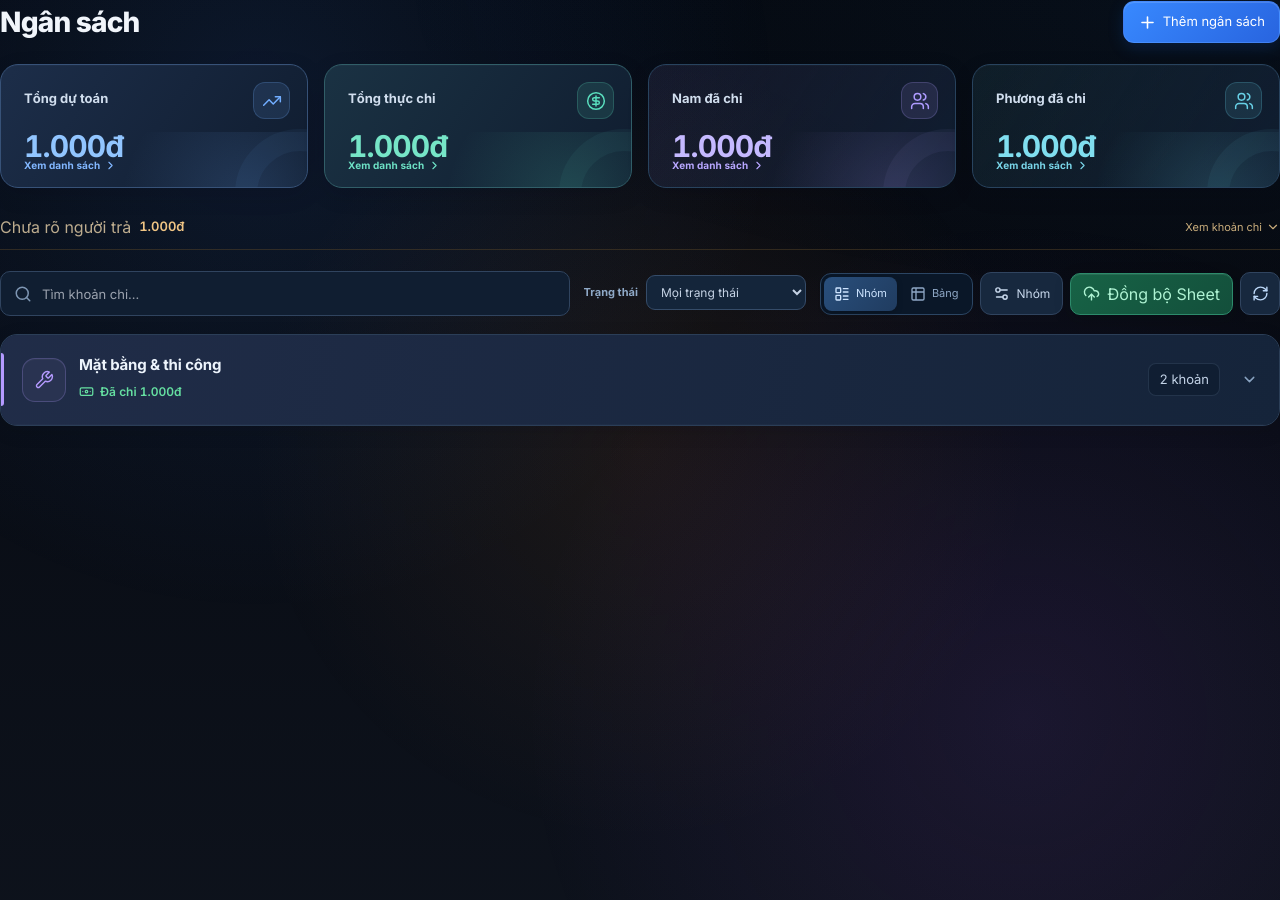
Test: Checklist and Budget interactions › filters payment states and keeps the same filtered rows in grouped table view
The width and height of the screenshot is (1280, 900).
Click the button with aria-label "Dạng bảng" at (934, 294), box [900, 276, 968, 310]
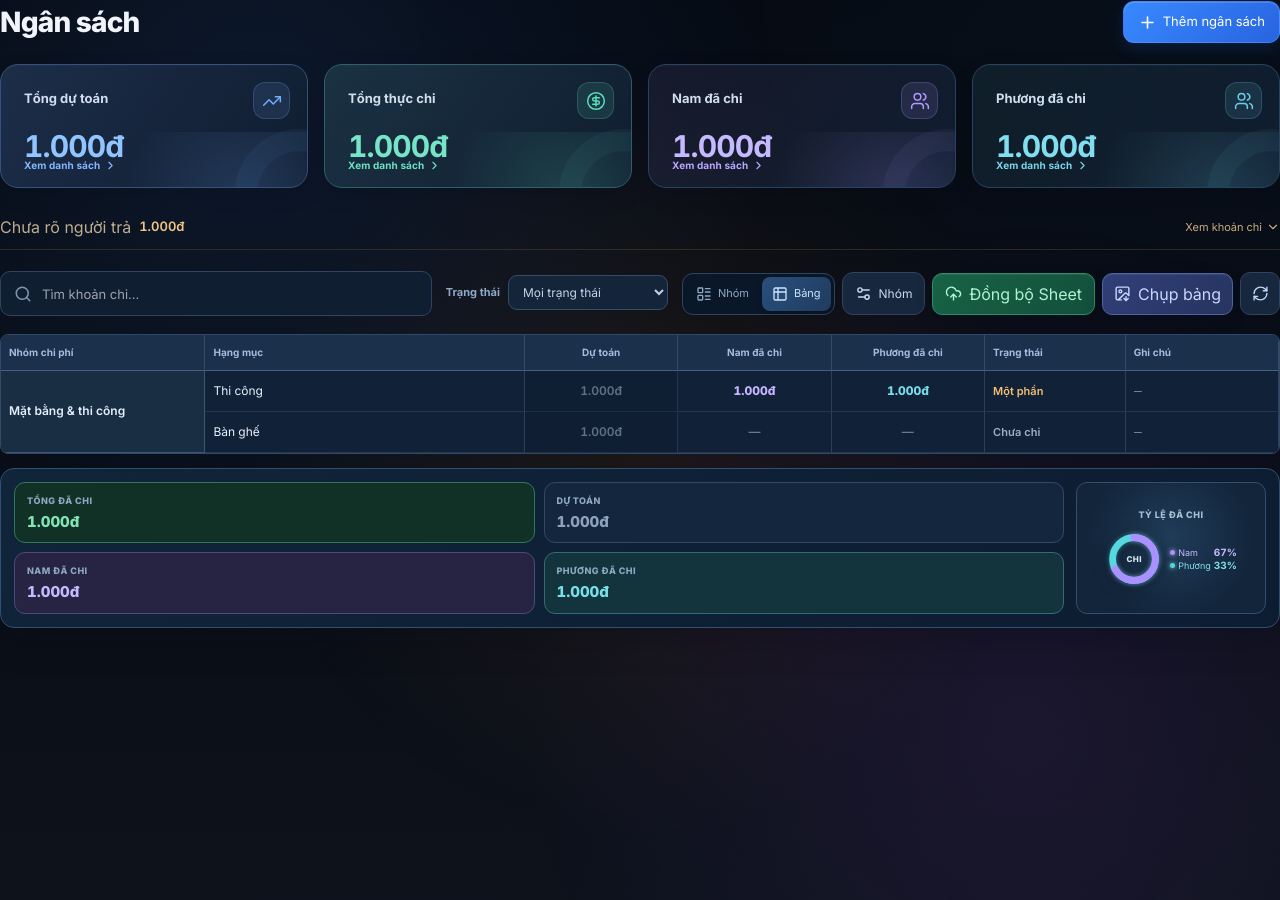
Select "Chưa chi" in the dropdown named "Lọc trạng thái thanh toán" at (588, 292), box [508, 275, 668, 310]
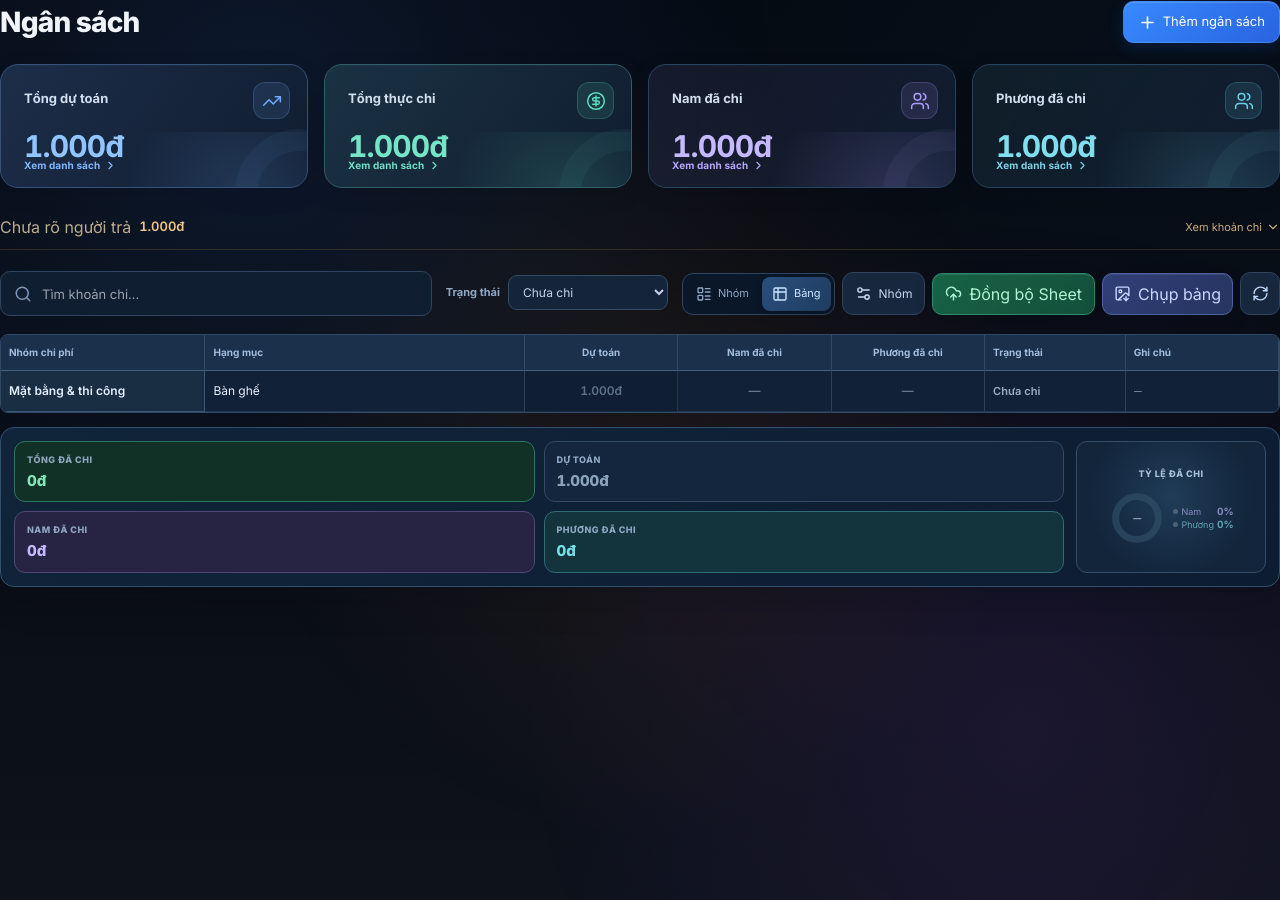
Click the button with aria-label "Mở Bàn ghế" at (237, 390), box [214, 378, 516, 404]
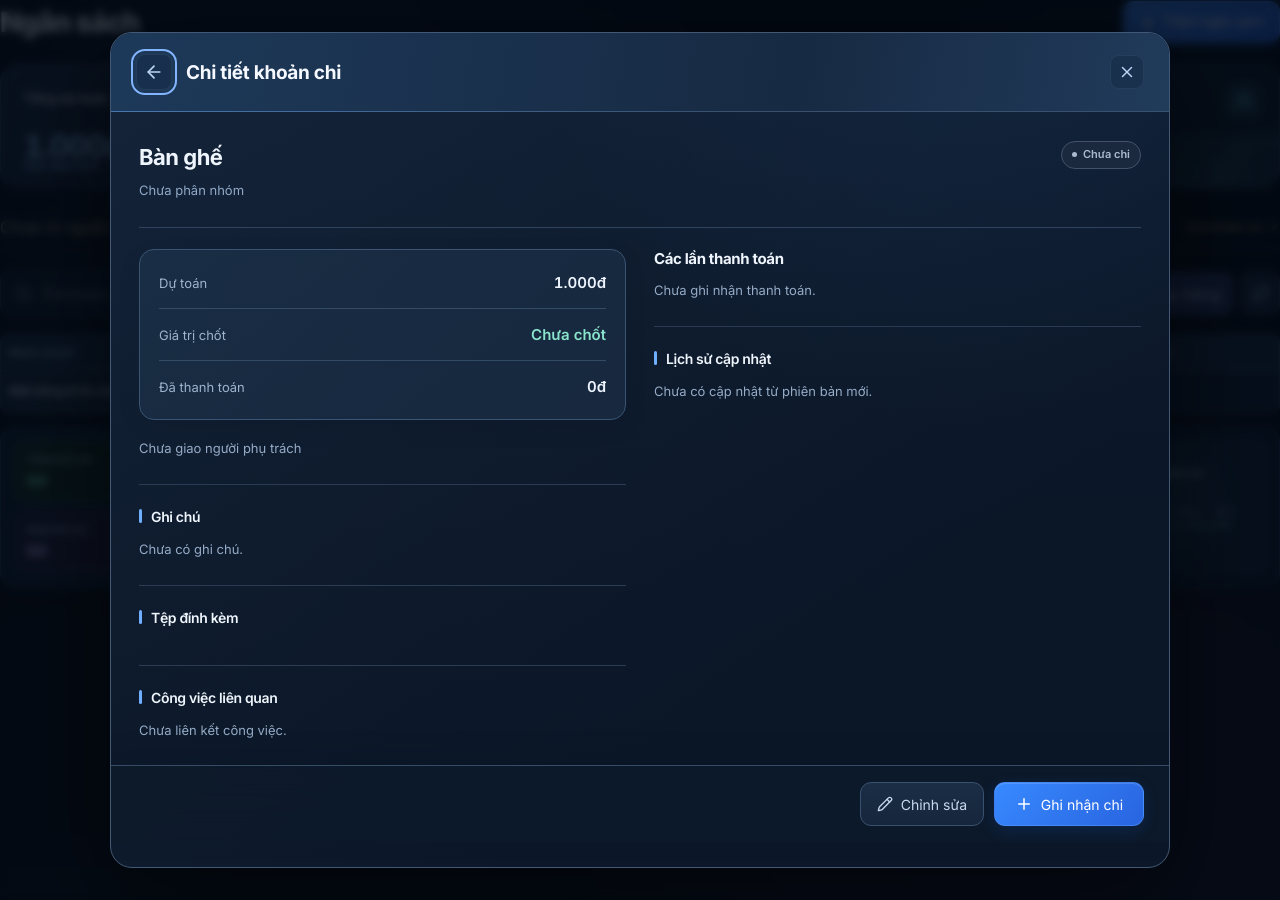
Check: the dialog "Chi tiết khoản chi" is shown
